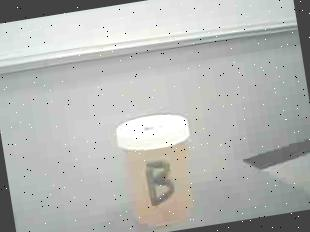Bottle B: (104, 100, 210, 232)
